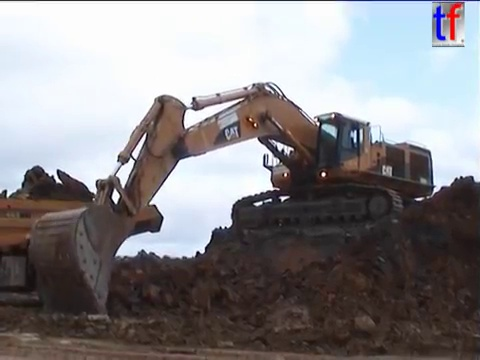excavator: (23, 78, 439, 326)
truck: (1, 187, 169, 323)
